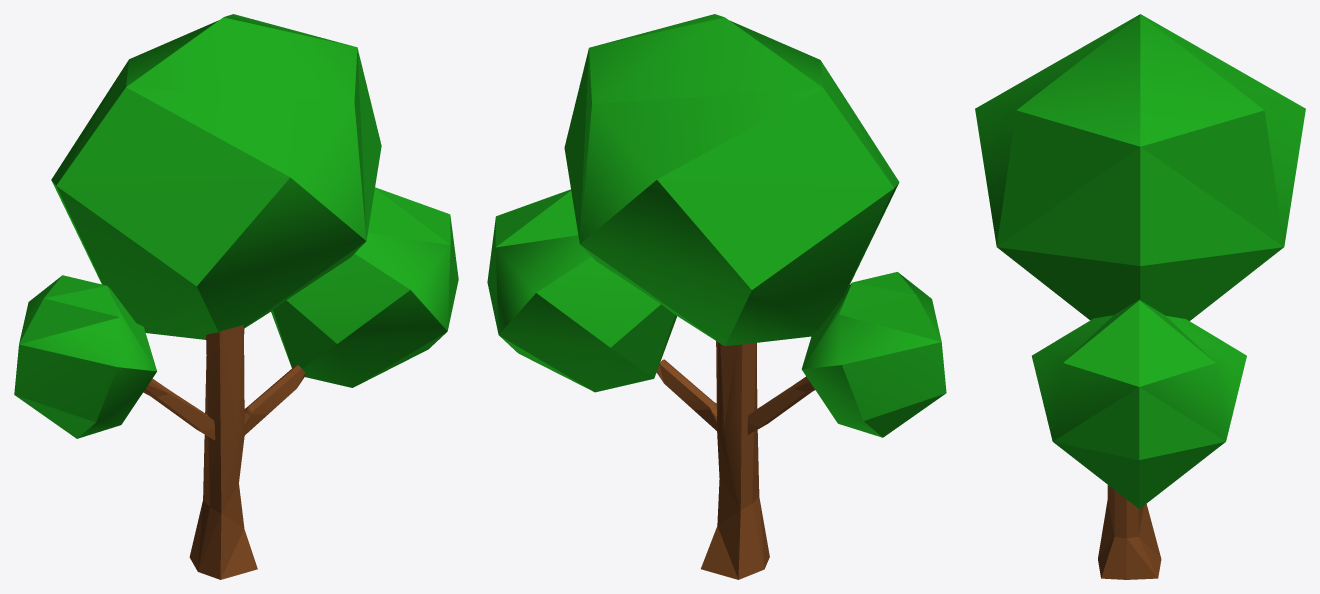
The model's file is tree.glb.
3 views of the same model, side by side, from view 1: azimuth 30°, elevation 25°; view 2: azimuth 150°, elevation 25°; view 3: azimuth 270°, elevation 25° (orthographic). The views are drawn at different scales.
Parts seen in each view (by area): view 1: Tree; view 2: Tree; view 3: Tree.
Boxes of the visible parts, <box> form: Tree: <box>14,14,458,579</box>; Tree: <box>487,14,946,579</box>; Tree: <box>975,14,1305,579</box>.
Size of the model in its own units: 0.1696 by 0.1957 by 0.1056.
